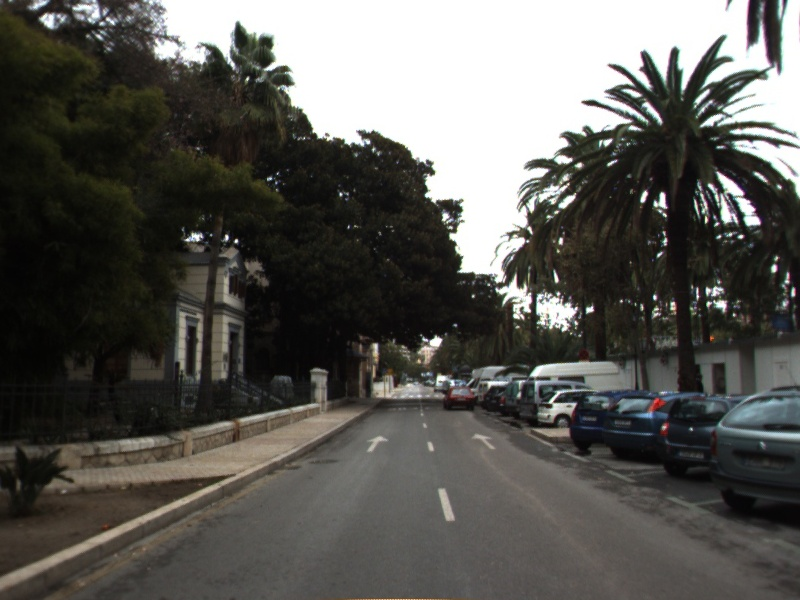STRAIGHT: (470, 431, 498, 451), (365, 434, 391, 454)
